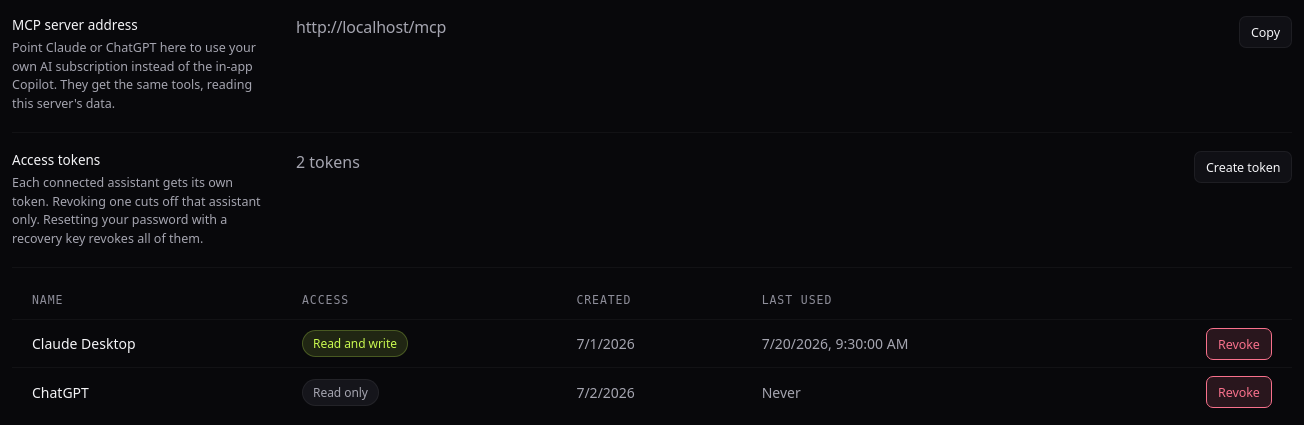
Test case: McpConnectionsSection › revokes a token after confirmation and refreshes the list
The width and height of the screenshot is (1304, 425).
Click the button "Revoke" in the row of "Claude Desktop" at (1239, 344), box [1206,328,1272,360]
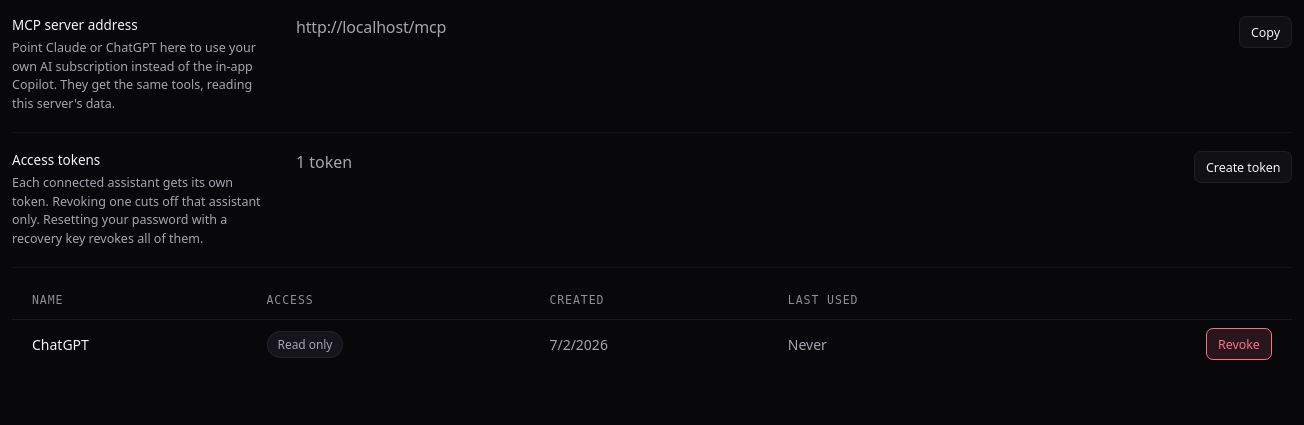
Expected: the text "Claude Desktop" is gone
